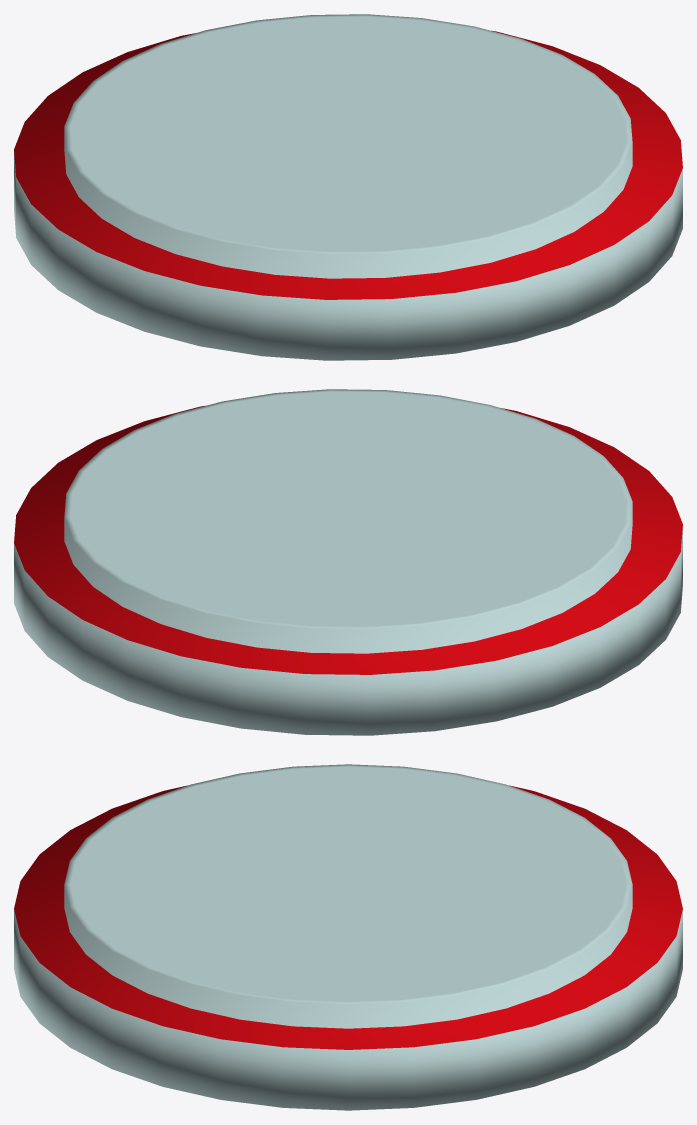
File: aaaatile.fbx
3 views of the same model, one above another, from view 1: azimuth 30°, elevation 25°; view 2: azimuth 150°, elevation 25°; view 3: azimuth 270°, elevation 25° (orthographic).
Parts seen in each view (by area): view 1: Circle; view 2: Circle; view 3: Circle.
Boxes of the visible parts, x1,y1,x2,y2 form: Circle: (14, 14, 682, 360); Circle: (14, 389, 682, 735); Circle: (14, 764, 682, 1110).
Size of the model in its own units: 200 by 28 by 200.
